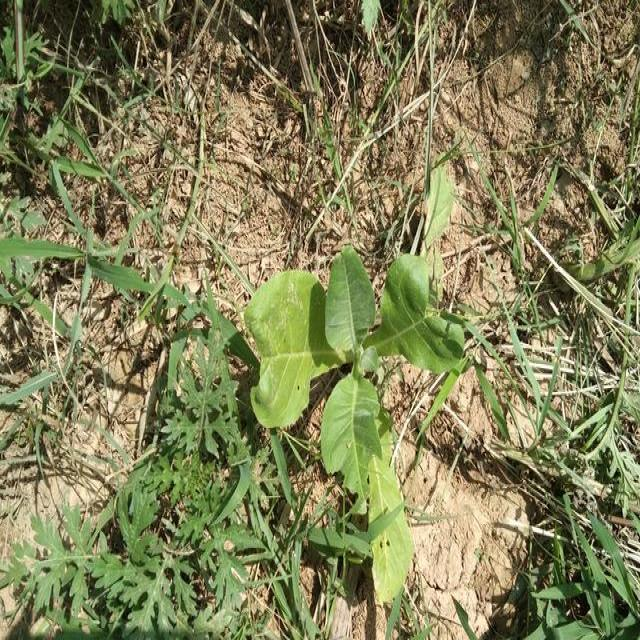crop: (244, 246, 456, 574)
